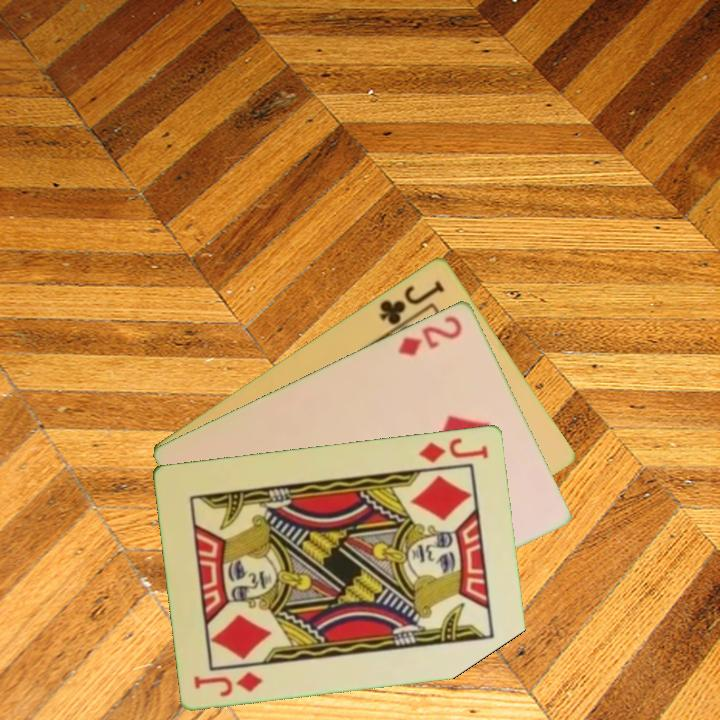2d: (394, 311, 465, 358)
Jc: (376, 276, 448, 328)
Jd: (416, 433, 492, 465), (190, 667, 266, 699)
